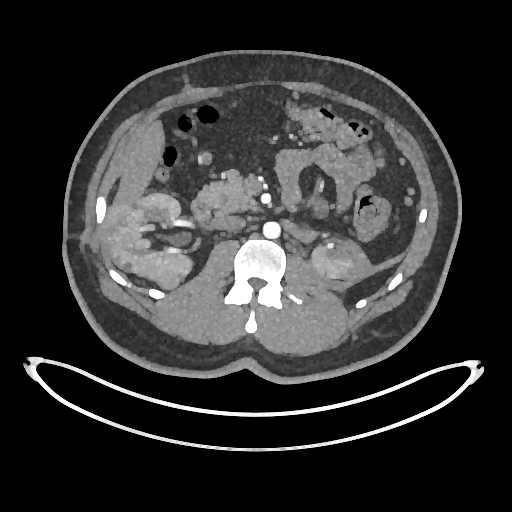Lesion: (154, 272, 182, 290)
